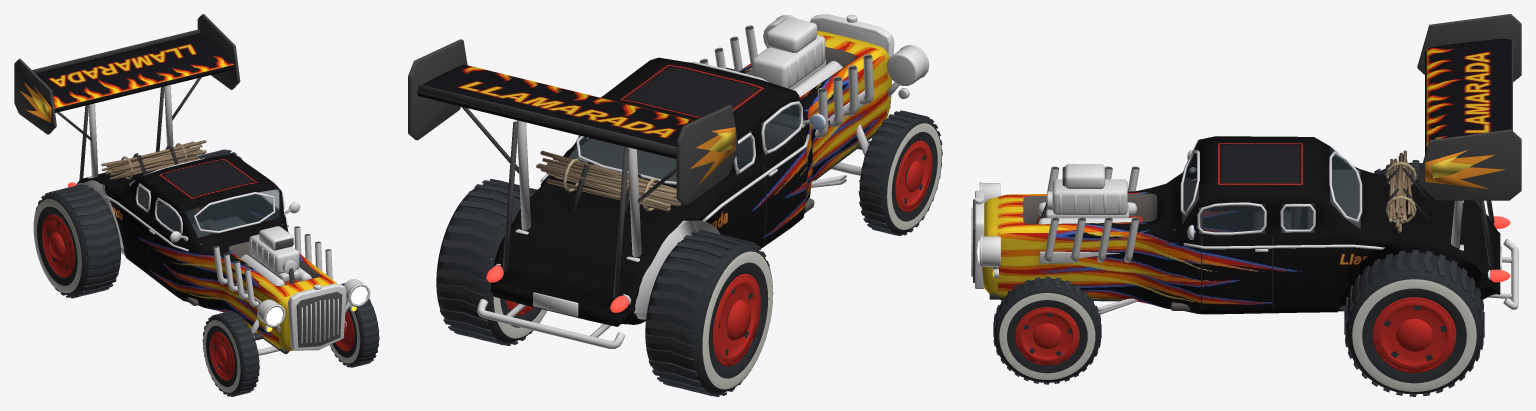
Rendered from llamarada.glb.
3 views of the same model, side by side, from view 1: azimuth 30°, elevation 25°; view 2: azimuth 150°, elevation 25°; view 3: azimuth 270°, elevation 25° (orthographic). The views are drawn at different scales.
Visible parts, largest first — view 1: body, wheel_rr, wheel_fr, glass_f6, wheel_fl; view 2: body, wheel_rr, wheel_rl, wheel_fr, glass_f6; view 3: body, wheel_rl, wheel_fl, glass_f6.
Boxes of the visible parts, <box> form: body: <box>14,14,370,355</box>; wheel_rr: <box>33,184,120,298</box>; wheel_fr: <box>202,311,259,396</box>; glass_f6: <box>137,183,279,237</box>; wheel_fl: <box>330,283,379,367</box>; body: <box>408,14,929,348</box>; wheel_rr: <box>645,230,773,396</box>; wheel_rl: <box>436,179,547,345</box>; wheel_fr: <box>858,110,942,235</box>; glass_f6: <box>569,101,801,181</box>; body: <box>971,14,1521,314</box>; wheel_rl: <box>1344,249,1484,396</box>; wheel_fl: <box>993,276,1101,384</box>; glass_f6: <box>1182,140,1359,233</box>.
Size of the model in its own units: 2.11 by 2.22 by 4.11.
Materials: 27 (2 with a texture image).
